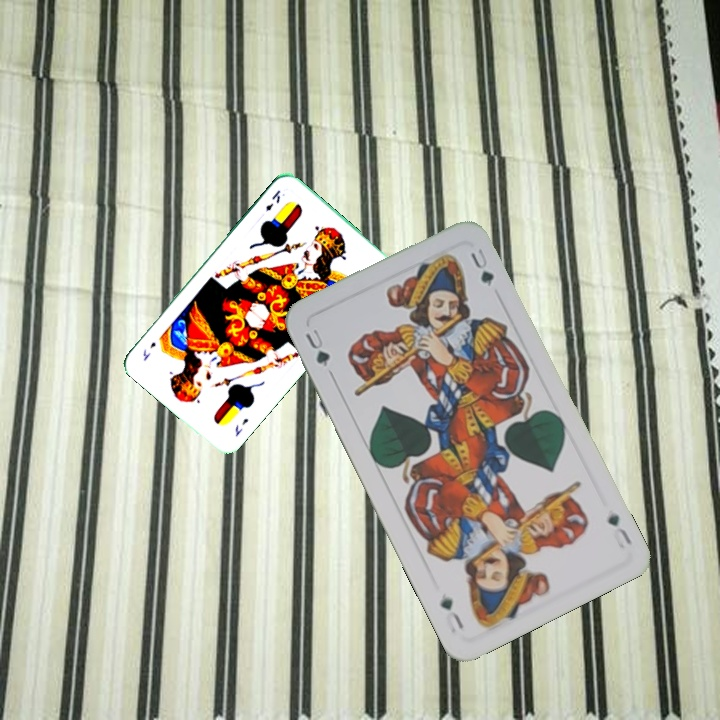EK: (261, 186, 283, 213), (231, 414, 251, 440)
GU: (301, 324, 333, 370), (603, 509, 635, 552)
